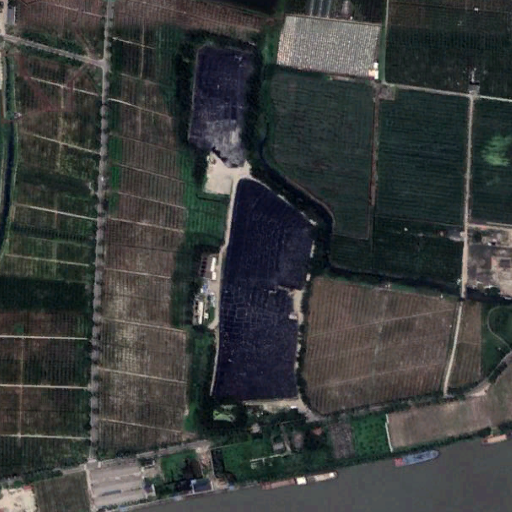lf: (206, 176, 316, 406), (174, 30, 258, 168)
